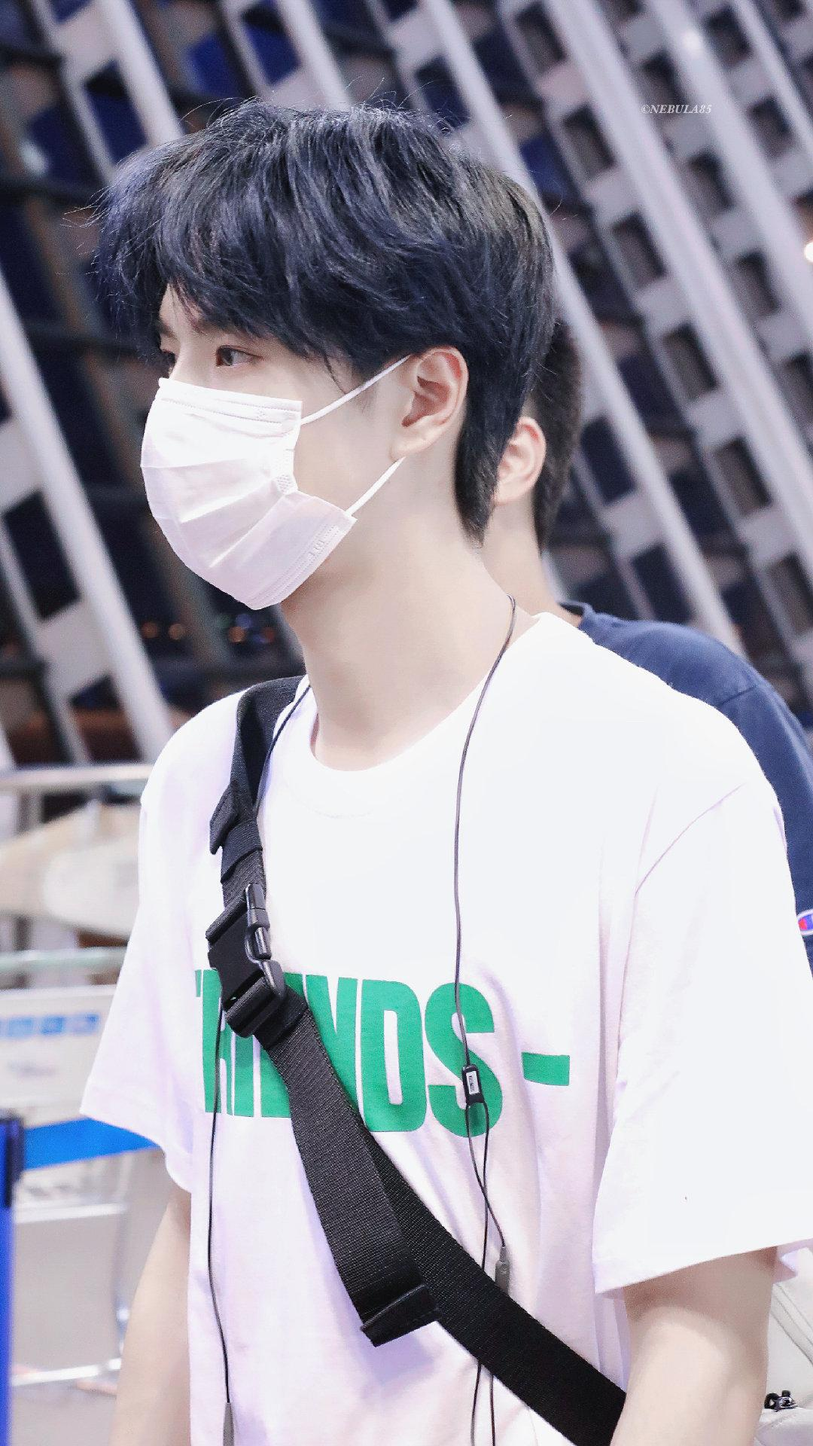OK: (139, 273, 368, 608)
